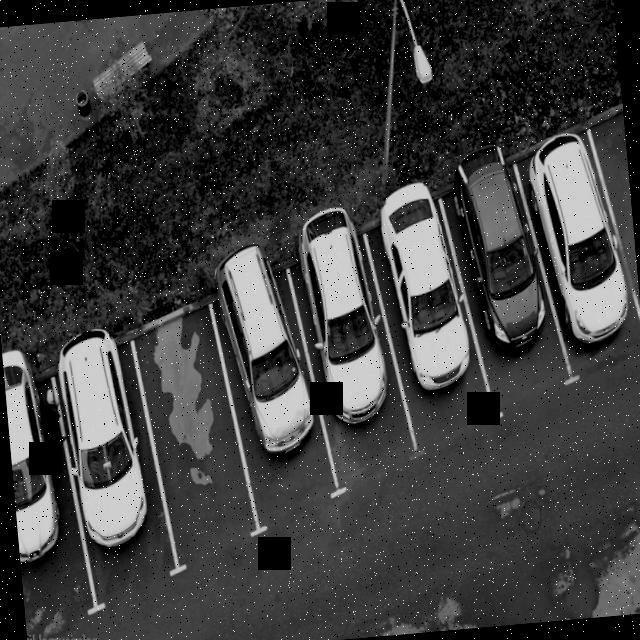space-empty: (118, 306, 275, 555)
space-occupied: (36, 320, 194, 599), (353, 190, 506, 447), (278, 231, 430, 485), (204, 261, 350, 514), (442, 158, 585, 411), (504, 129, 640, 373), (2, 343, 98, 634)
